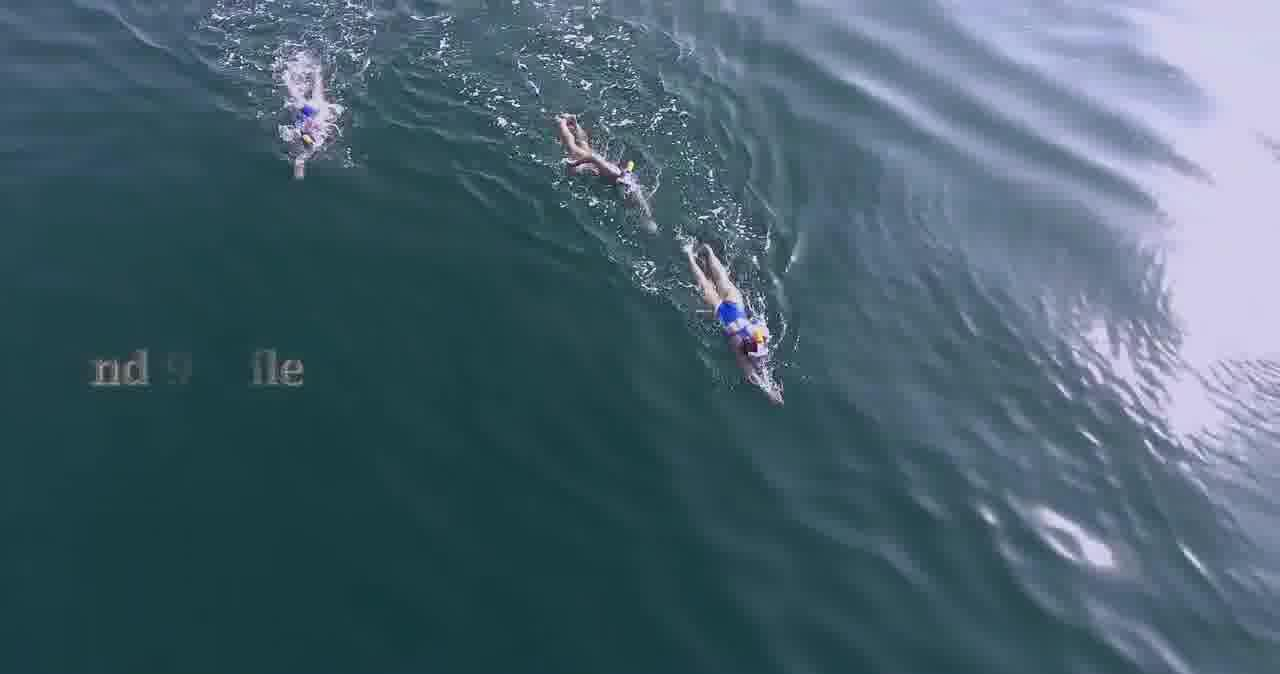human: (685, 236, 787, 404), (550, 112, 655, 241)
